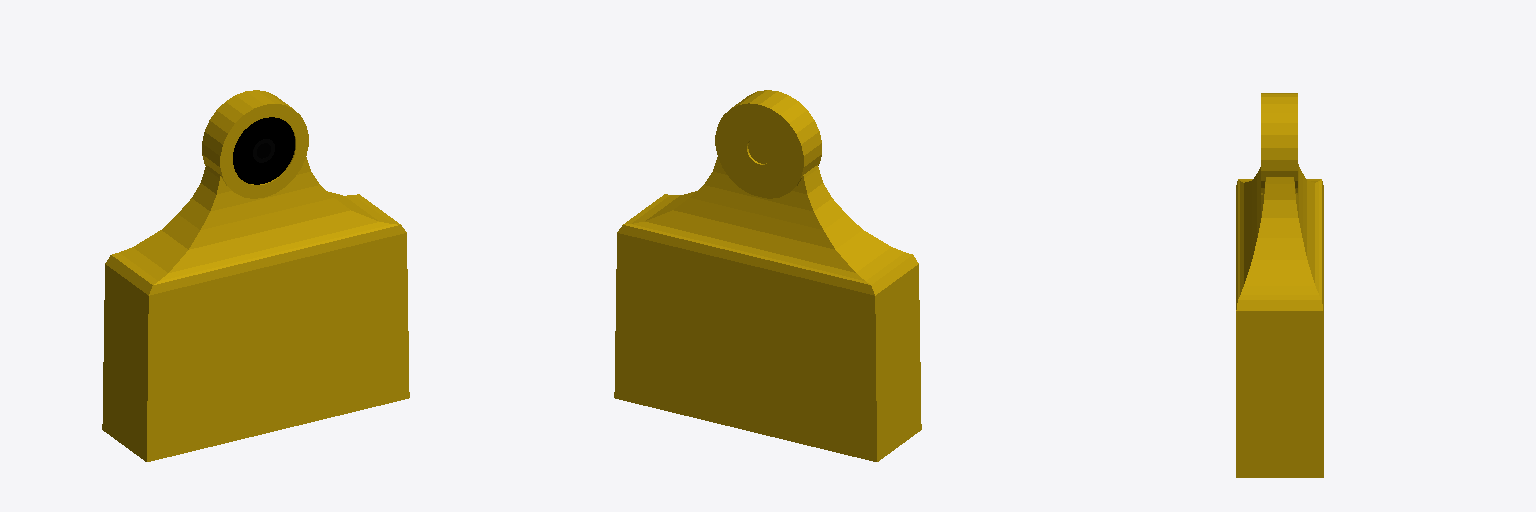
Rendered from arete.obj.
3 views of the same model, side by side, from view 1: azimuth 30°, elevation 25°; view 2: azimuth 150°, elevation 25°; view 3: azimuth 270°, elevation 25° (orthographic).
Visible parts, largest first — view 1: Cubo_Cubo.001; view 2: Cubo_Cubo.001; view 3: Cubo_Cubo.001.
Boxes of the visible parts, x1=… form: Cubo_Cubo.001: x1=102, y1=90, x2=409, y2=461; Cubo_Cubo.001: x1=614, y1=90, x2=921, y2=461; Cubo_Cubo.001: x1=1236, y1=93, x2=1323, y2=477.
Bounding box in the file's own units: 9.15 × 10.52 × 2.68.